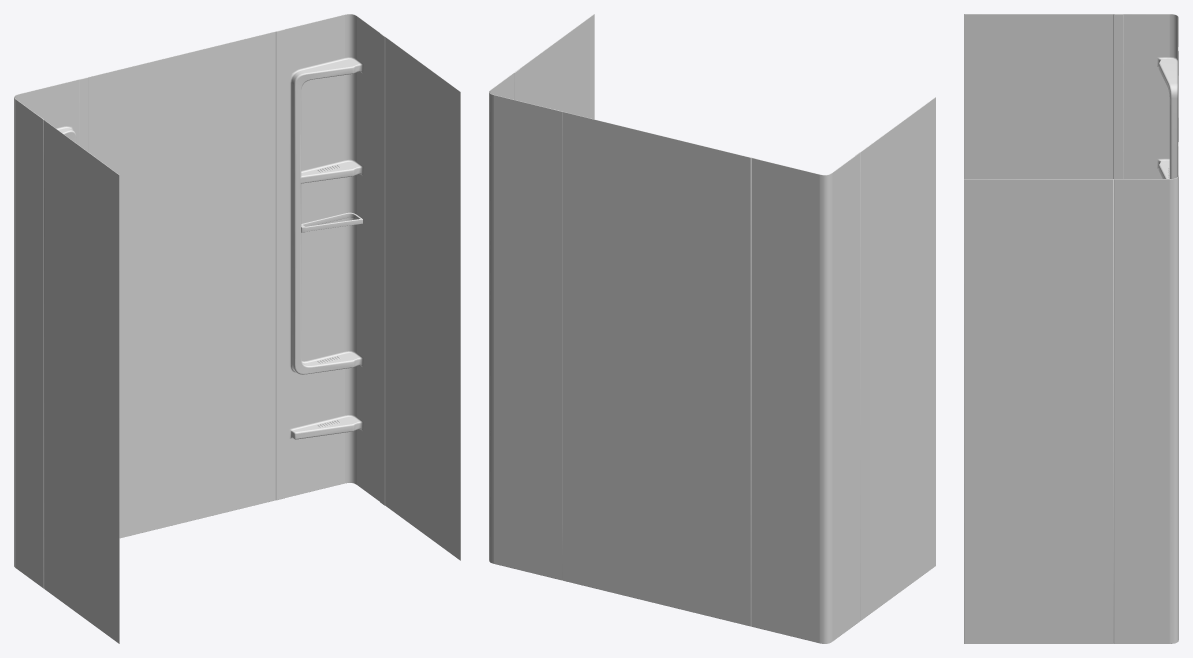
Rendered from maax-lenoir.glb.
The picture shows the model from 3 angles, left to right: view 1: azimuth 30°, elevation 25°; view 2: azimuth 150°, elevation 25°; view 3: azimuth 270°, elevation 25°; orthographic projection.
Parts seen in each view (by area): view 1: Base; view 2: Base; view 3: Base.
Part boxes in pixels (box(x1,y1,x2,y2)): Base: box(14, 14, 460, 643); Base: box(489, 14, 935, 643); Base: box(964, 14, 1178, 643).
Size of the model in its own units: 1.55 by 2.03 by 0.8509.
Materials: 1 (1 with a texture image).
